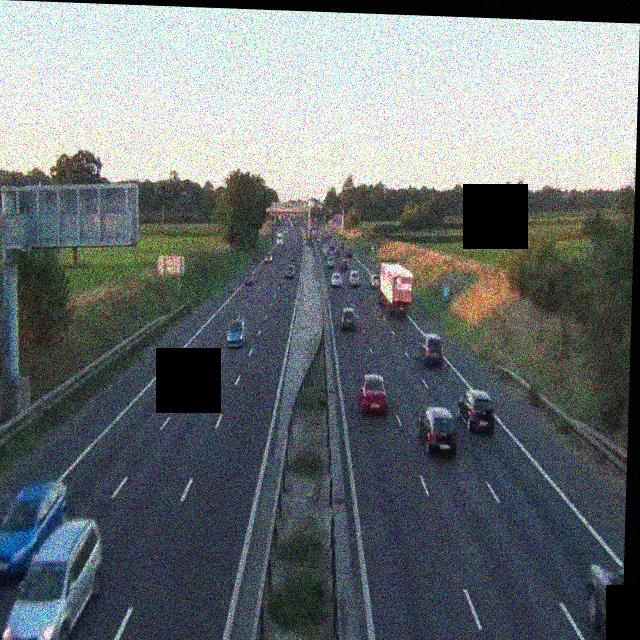car: (4, 514, 103, 640), (0, 478, 69, 584), (584, 562, 624, 640), (418, 406, 458, 457), (458, 388, 496, 434), (359, 374, 388, 415), (420, 334, 445, 368), (227, 317, 246, 346), (340, 306, 356, 332), (330, 271, 343, 287), (349, 269, 361, 286), (368, 271, 379, 289), (244, 269, 255, 285), (326, 257, 336, 270), (286, 263, 295, 277), (342, 254, 350, 269), (264, 251, 272, 263), (344, 245, 352, 257)
truck: (380, 262, 413, 315)
